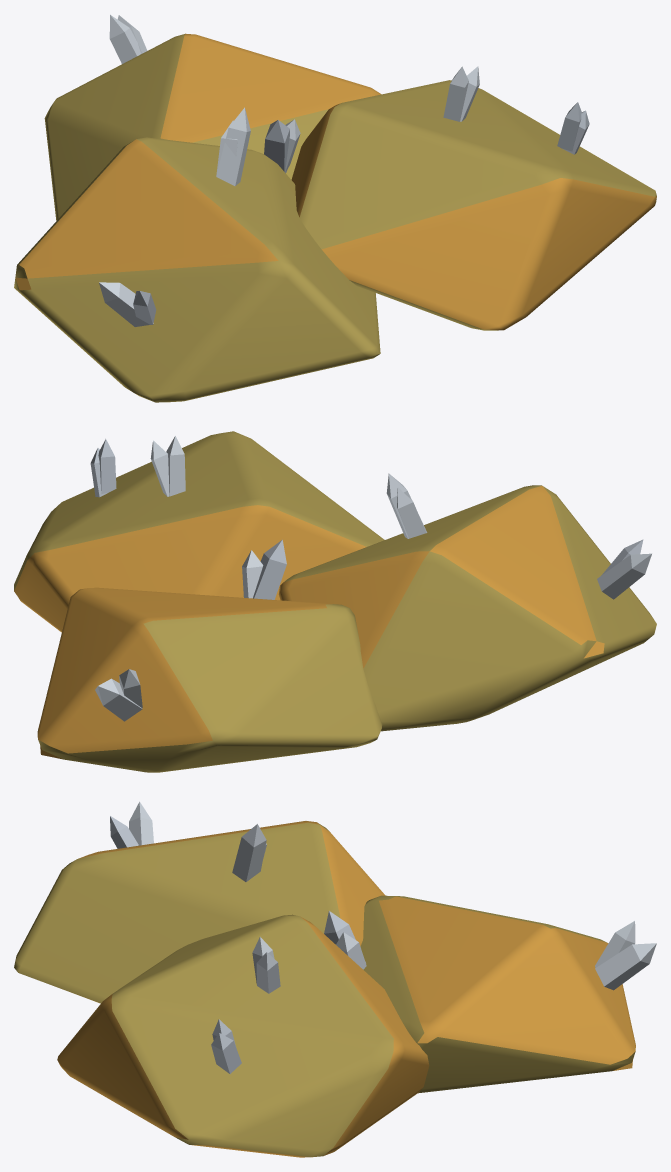
File: minerai_zinc_2.glb
3 renders of one model, top to bottom at view 1: azimuth 30°, elevation 25°; view 2: azimuth 150°, elevation 25°; view 3: azimuth 270°, elevation 25°, orthographic. The views are drawn at different scales.
Visible parts, largest first — view 1: minerai_zinc_roche.004, minerai_zinc_miel.004, minerai_zinc_metal.004, minerai_gris_clair.008; view 2: minerai_zinc_roche.004, minerai_zinc_miel.004, minerai_zinc_metal.004, minerai_gris_clair.008; view 3: minerai_zinc_roche.004, minerai_zinc_miel.004, minerai_zinc_metal.004, minerai_gris_clair.008.
Boxes of the visible parts, x1=… form: minerai_zinc_roche.004: x1=14, y1=34, x2=656, y2=402; minerai_zinc_miel.004: x1=15, y1=33, x2=656, y2=330; minerai_zinc_metal.004: x1=99, y1=14, x2=479, y2=326; minerai_gris_clair.008: x1=133, y1=102, x2=589, y2=324; minerai_zinc_roche.004: x1=14, y1=431, x2=656, y2=772; minerai_zinc_miel.004: x1=14, y1=486, x2=604, y2=759; minerai_zinc_metal.004: x1=95, y1=436, x2=651, y2=721; minerai_gris_clair.008: x1=90, y1=439, x2=643, y2=599; minerai_zinc_roche.004: x1=14, y1=822, x2=635, y2=1157; minerai_zinc_miel.004: x1=57, y1=821, x2=635, y2=1157; minerai_zinc_metal.004: x1=129, y1=801, x2=656, y2=993; minerai_gris_clair.008: x1=110, y1=816, x2=365, y2=1073.
Size of the model in its own units: 0.538 by 0.161 by 0.5322.
